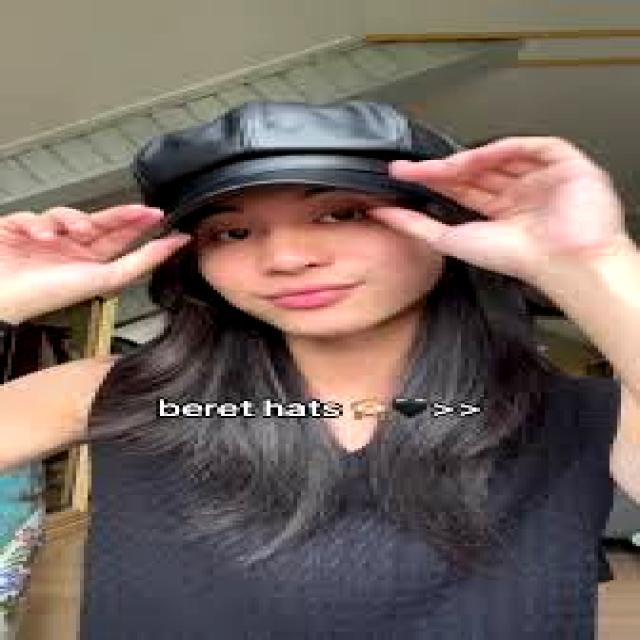hat: (134, 101, 464, 228)
